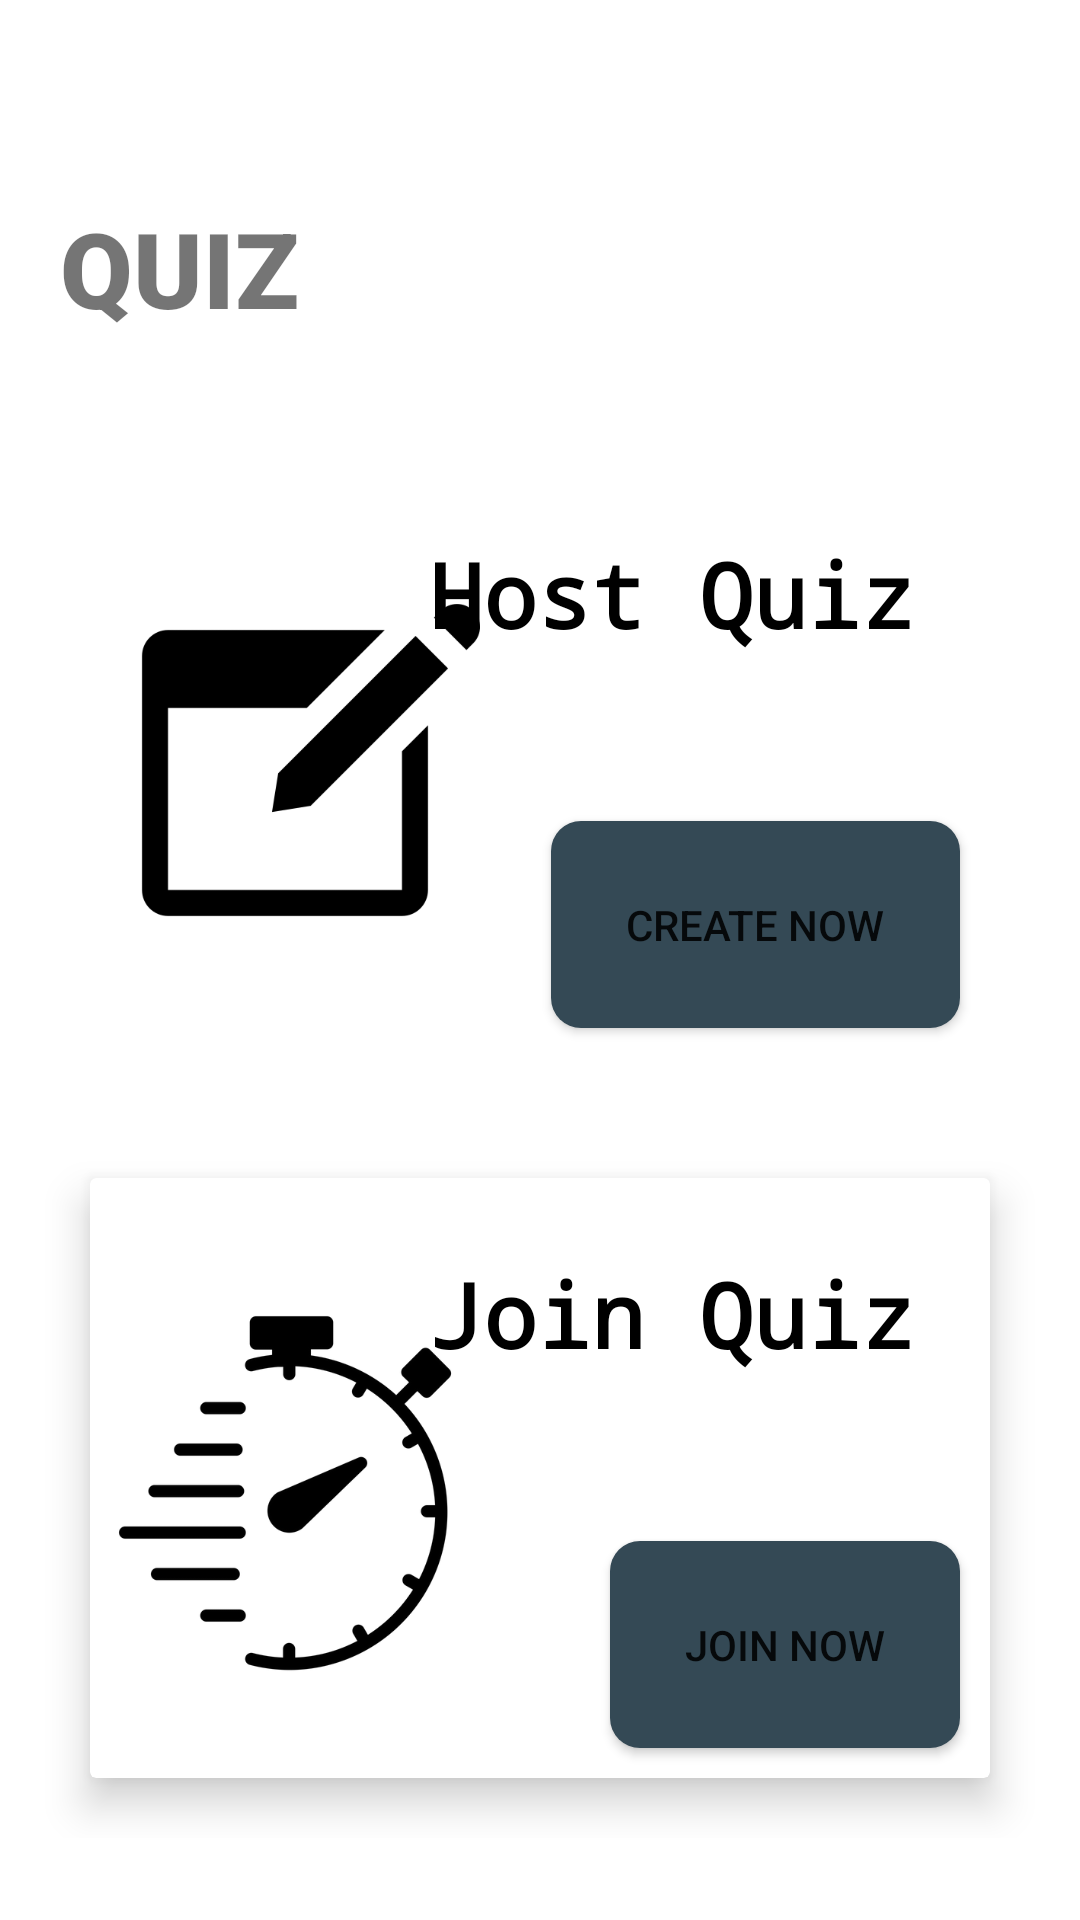

Screen size 1080px×1920px. Icon name, then its box in pixels as (x1, y1, x2, y2):
quiztime: (119, 1316, 451, 1671)
